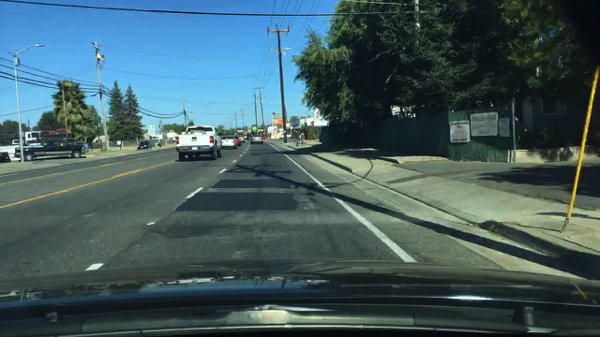car: (220, 135, 238, 150), (137, 140, 153, 150), (250, 134, 264, 145), (0, 151, 12, 163), (233, 135, 242, 147), (279, 133, 291, 140), (238, 134, 245, 144), (242, 133, 247, 140), (246, 135, 251, 141)
person: (294, 130, 300, 147), (300, 131, 305, 147)
traffic sign: (147, 125, 155, 136)
truck: (175, 125, 223, 160), (15, 139, 87, 161)
